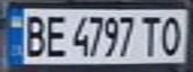4: (66, 12, 90, 59)
7: (84, 12, 106, 57), (118, 12, 139, 57)
9: (103, 12, 121, 57)
B: (18, 11, 48, 58)
E: (42, 11, 69, 58)
O: (157, 12, 187, 56)
T: (136, 12, 163, 57)
